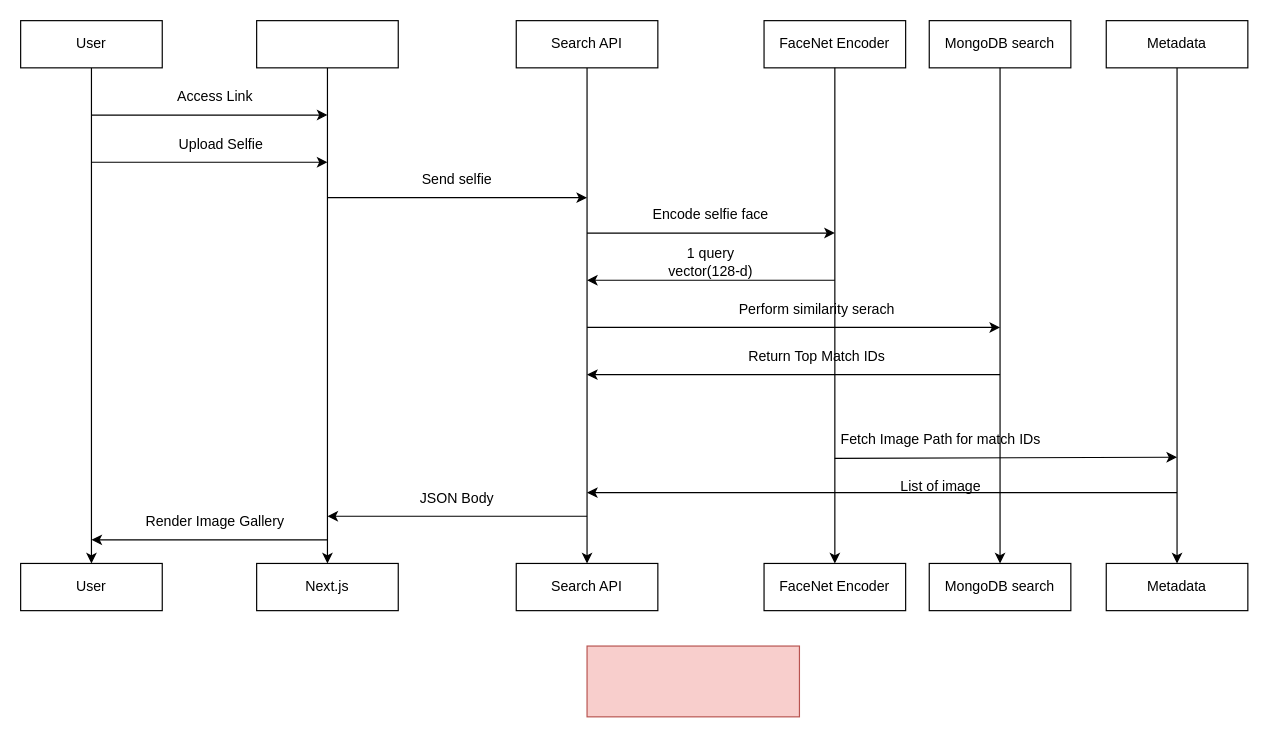
The diagram is 1269 pixels wide and 737 high, and some of its shapes have lost their labels. Each missing label, with the box of its shape:
Next .js: (255, 19, 398, 68)
USER FLOW DIAGRAM: (586, 645, 799, 717)
